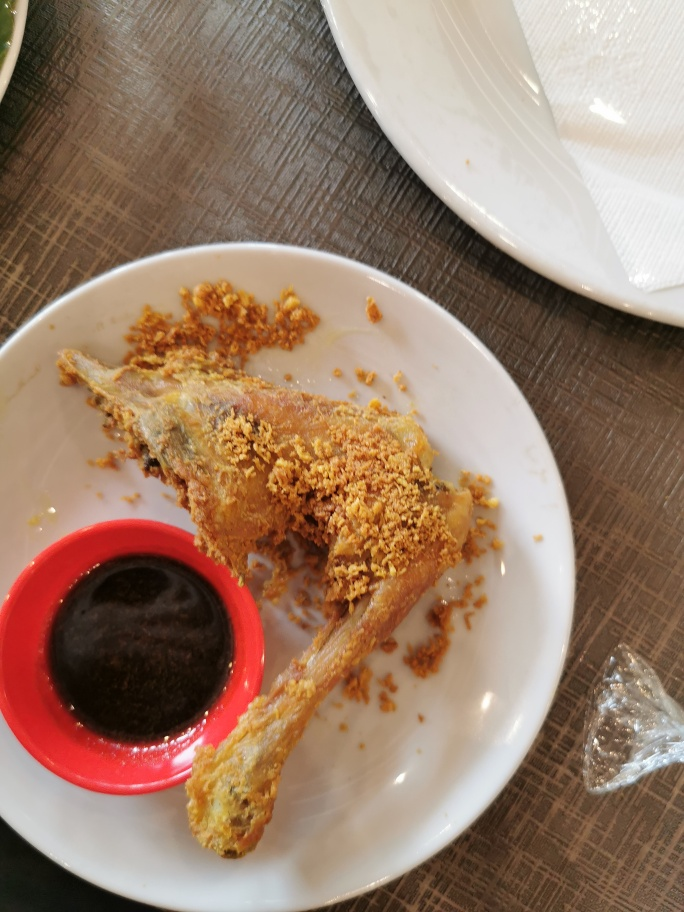ayam goreng: (53, 344, 480, 850)
kecap: (16, 523, 263, 796)
